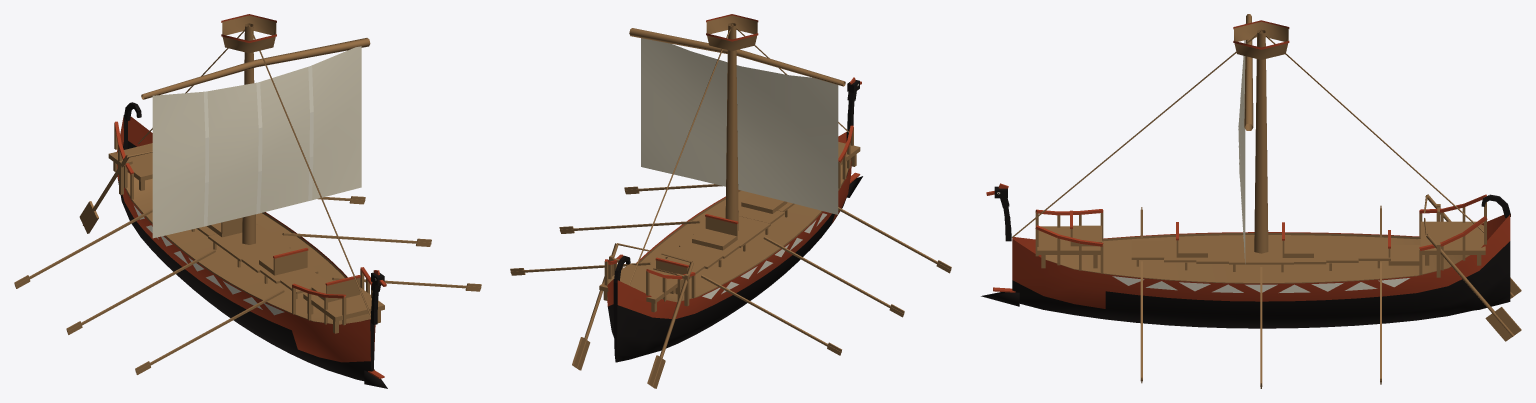
The model's file is ship_crewdestroyer_blockout_LOD1.obj.
3 renders of one model, left to right at view 1: azimuth 30°, elevation 25°; view 2: azimuth 150°, elevation 25°; view 3: azimuth 270°, elevation 25°, orthographic. The views are drawn at different scales.
Parts seen in each view (by area): view 1: ship_crewdestroyer_blockout_LOD1; view 2: ship_crewdestroyer_blockout_LOD1; view 3: ship_crewdestroyer_blockout_LOD1.
Boxes of the visible parts, x1,y1,x2,y2 form: ship_crewdestroyer_blockout_LOD1: [14, 14, 481, 388]; ship_crewdestroyer_blockout_LOD1: [510, 14, 951, 388]; ship_crewdestroyer_blockout_LOD1: [981, 14, 1521, 388].
Size of the model in its own units: 17.68 by 13.3 by 22.46.
